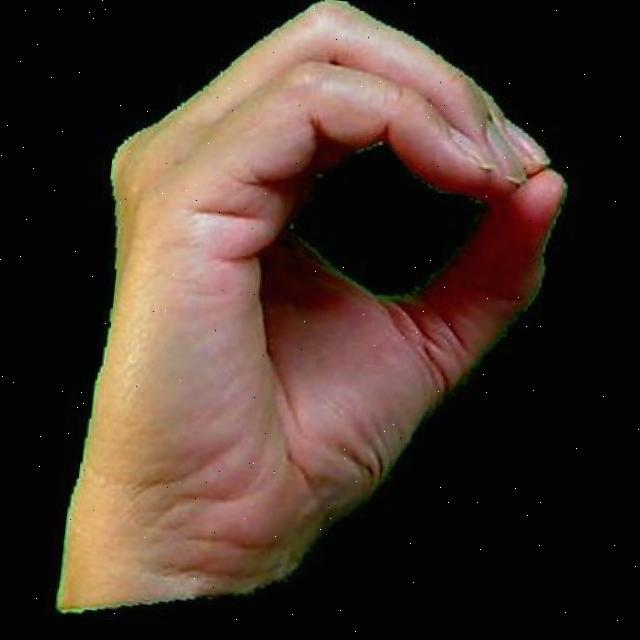o: (41, 0, 593, 640)
